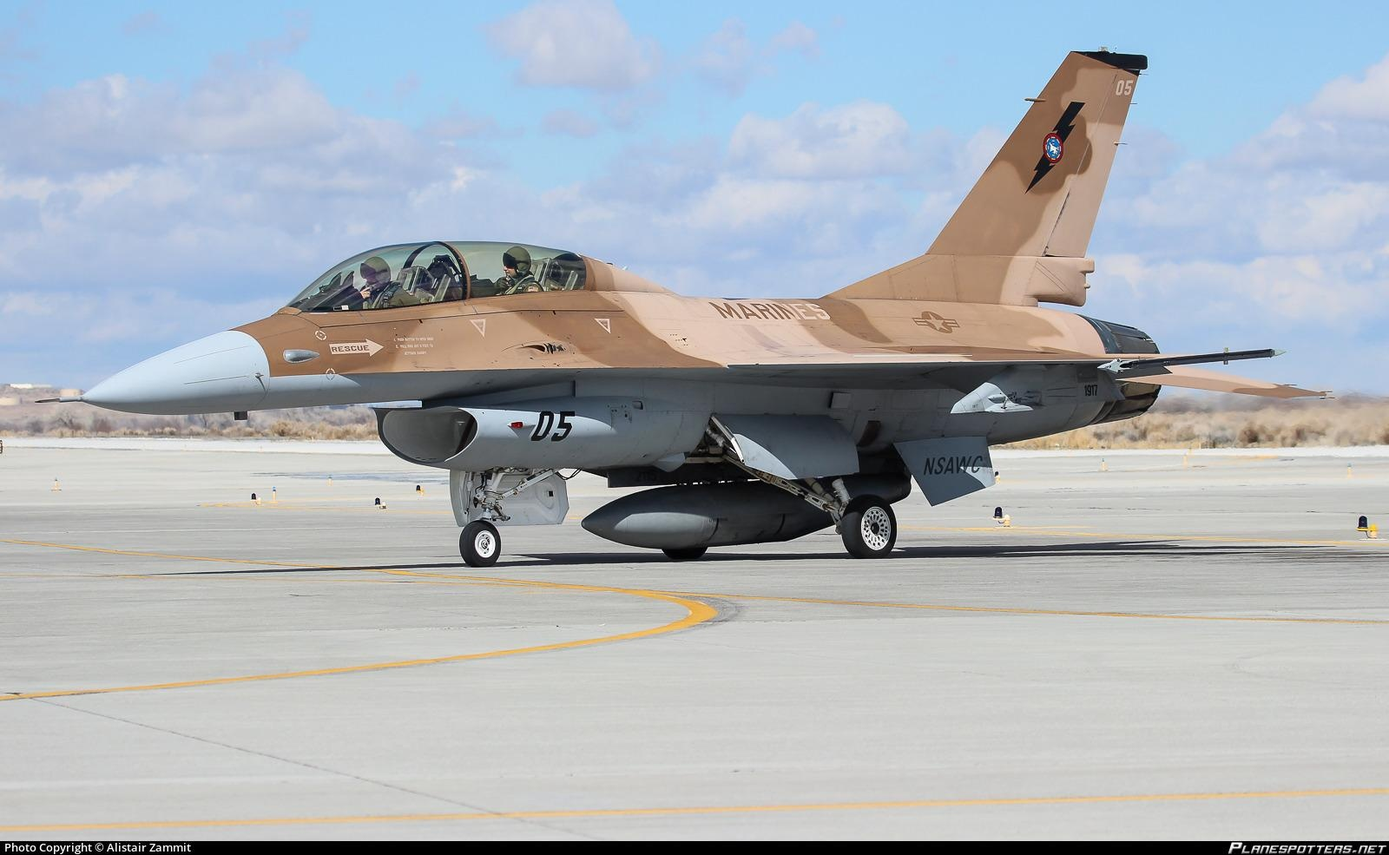aircraft: (23, 50, 1349, 566)
